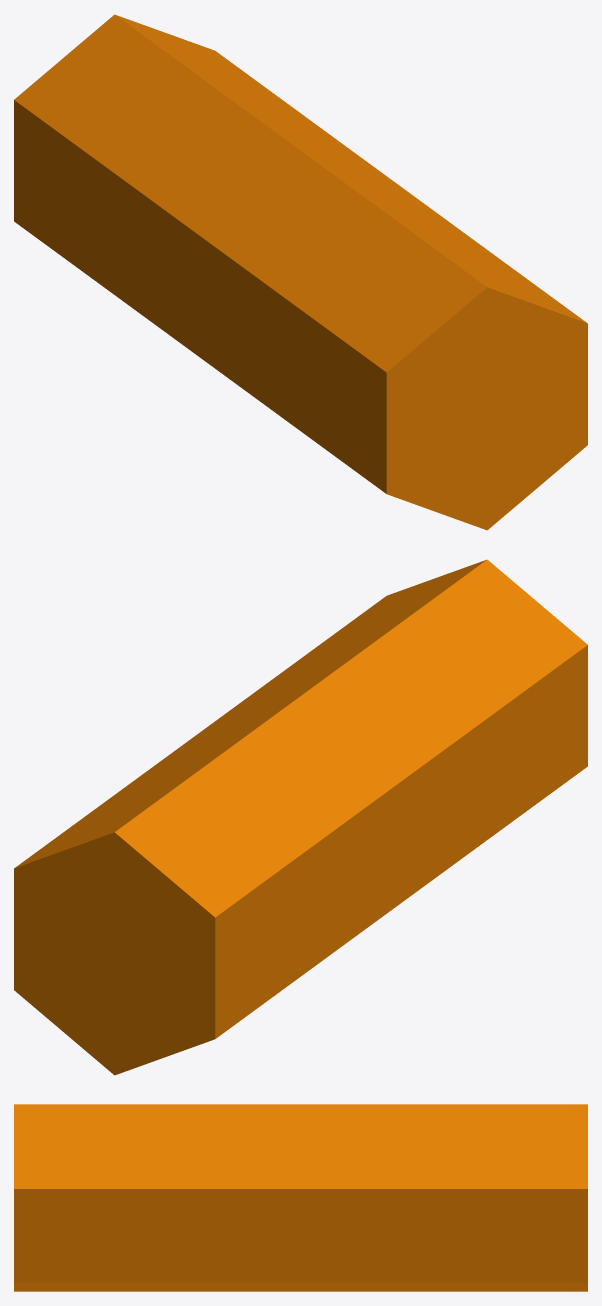
File: tree_trunk.dae
3 views of the same model, one above another, from view 1: azimuth 30°, elevation 25°; view 2: azimuth 150°, elevation 25°; view 3: azimuth 270°, elevation 25° (orthographic). The views are drawn at different scales.
Parts seen in each view (by area): view 1: Cylinder; view 2: Cylinder; view 3: Cylinder.
Boxes of the visible parts, x1=… form: Cylinder: x1=14, y1=14, x2=587, y2=530; Cylinder: x1=14, y1=559, x2=587, y2=1075; Cylinder: x1=14, y1=1104, x2=587, y2=1291.
Bounding box in the file's own units: 2.81 × 9 × 3.24.
